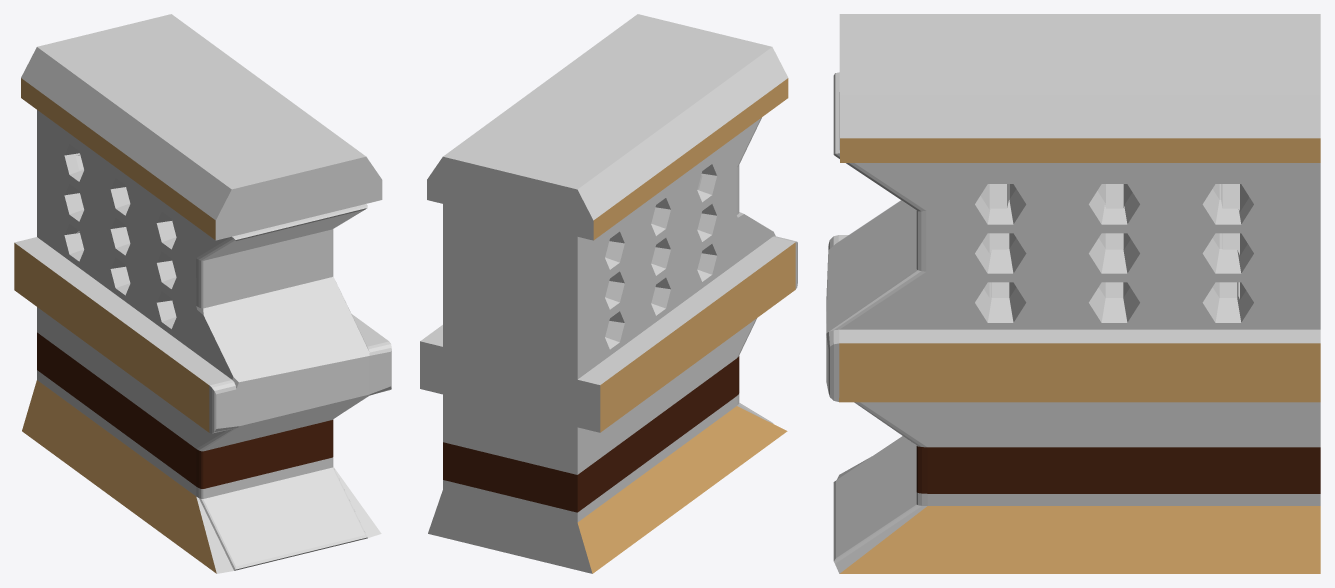
Rendered from Puerta Izquierda.fbx.
3 views of the same model, side by side, from view 1: azimuth 30°, elevation 25°; view 2: azimuth 150°, elevation 25°; view 3: azimuth 270°, elevation 25° (orthographic). The views are drawn at different scales.
Visible parts, largest first — view 1: Cube.008; view 2: Cube.008; view 3: Cube.008.
Boxes of the visible parts, bbox=[...] form: Cube.008: bbox=[14, 14, 391, 573]; Cube.008: bbox=[420, 14, 797, 573]; Cube.008: bbox=[826, 14, 1320, 573].
Bounding box in the file's own units: 113 × 228 × 218.
